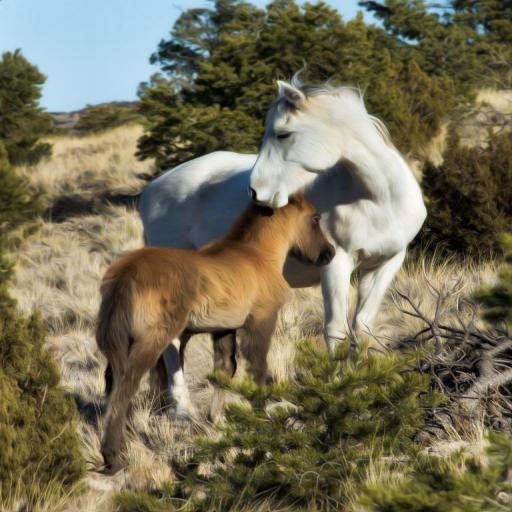horse: (135, 56, 429, 418), (96, 190, 339, 472)
